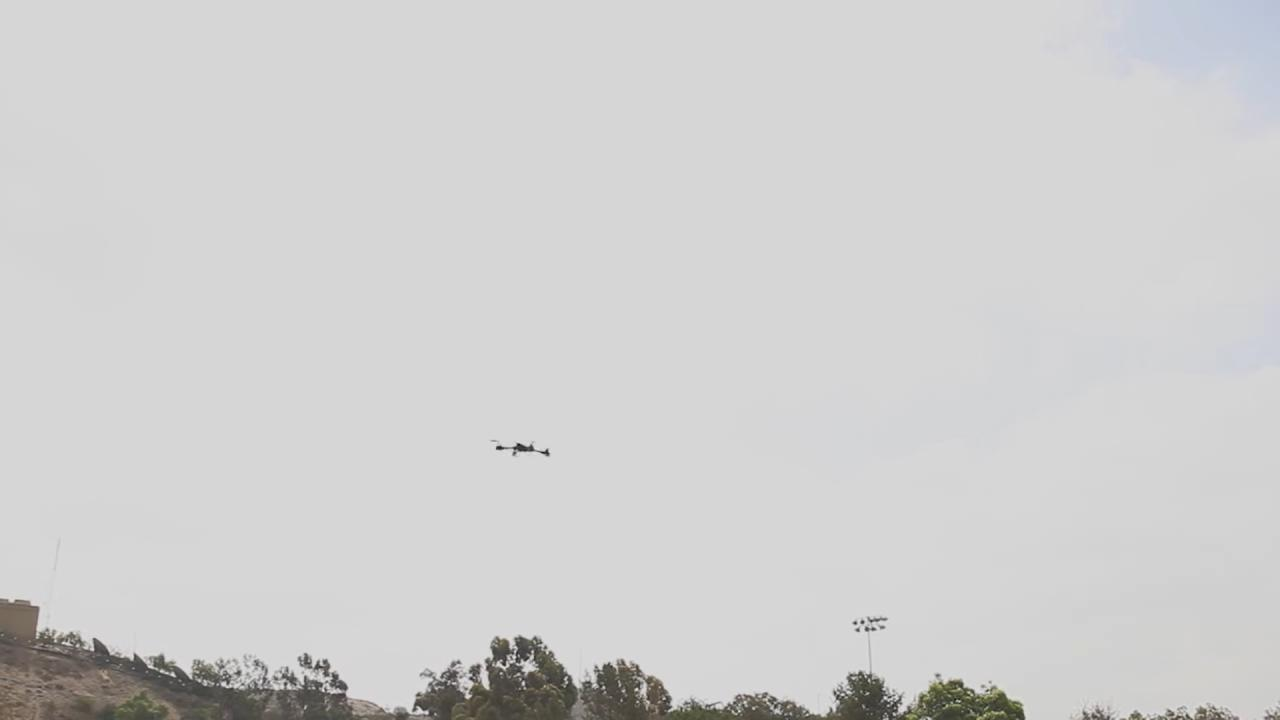Drone: (486, 433, 558, 468)
